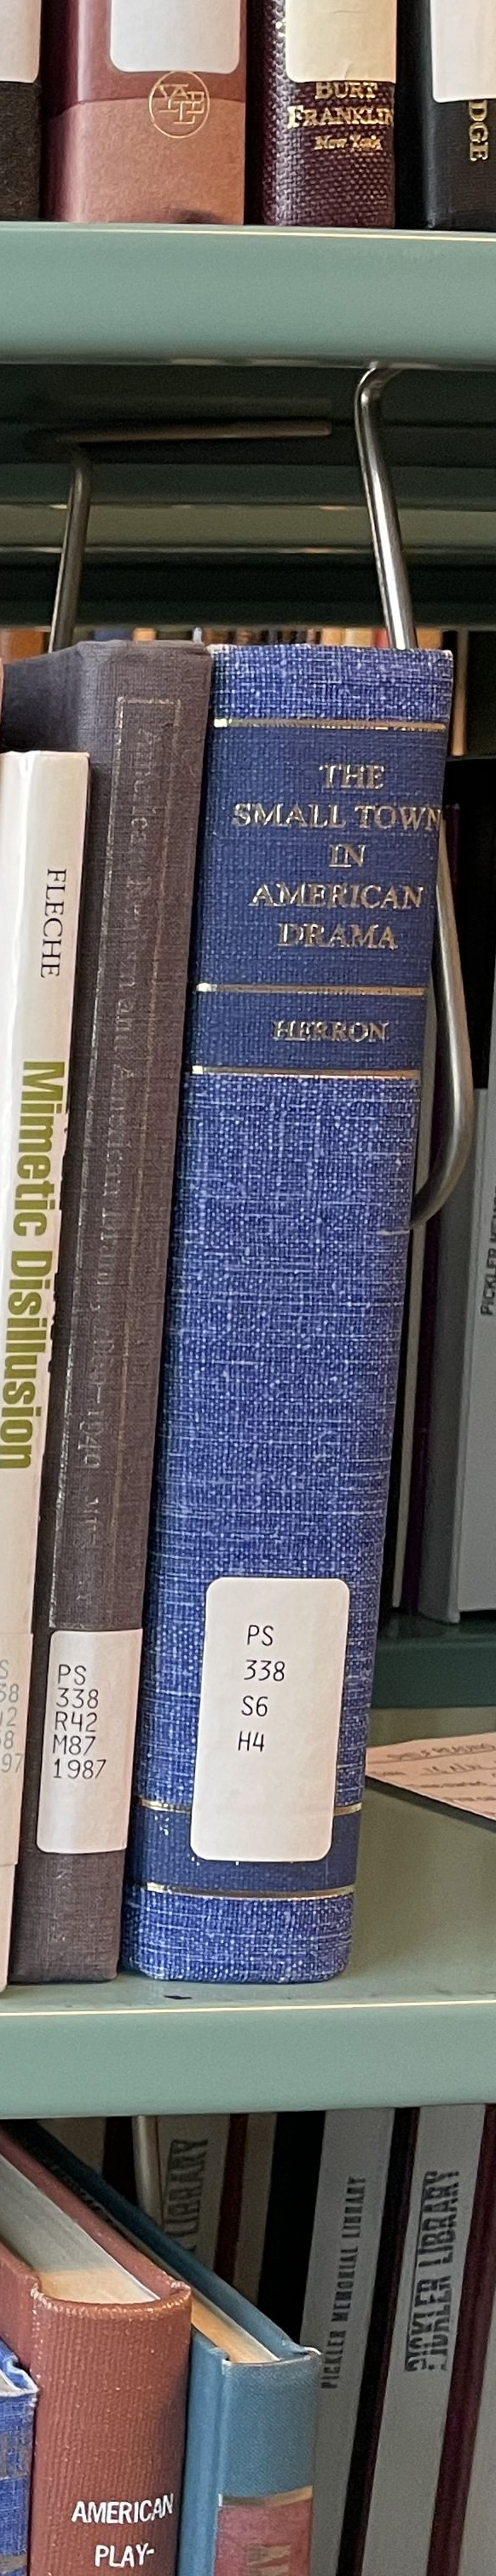call_number: (214, 1584, 330, 1861), (51, 1630, 125, 1848)
